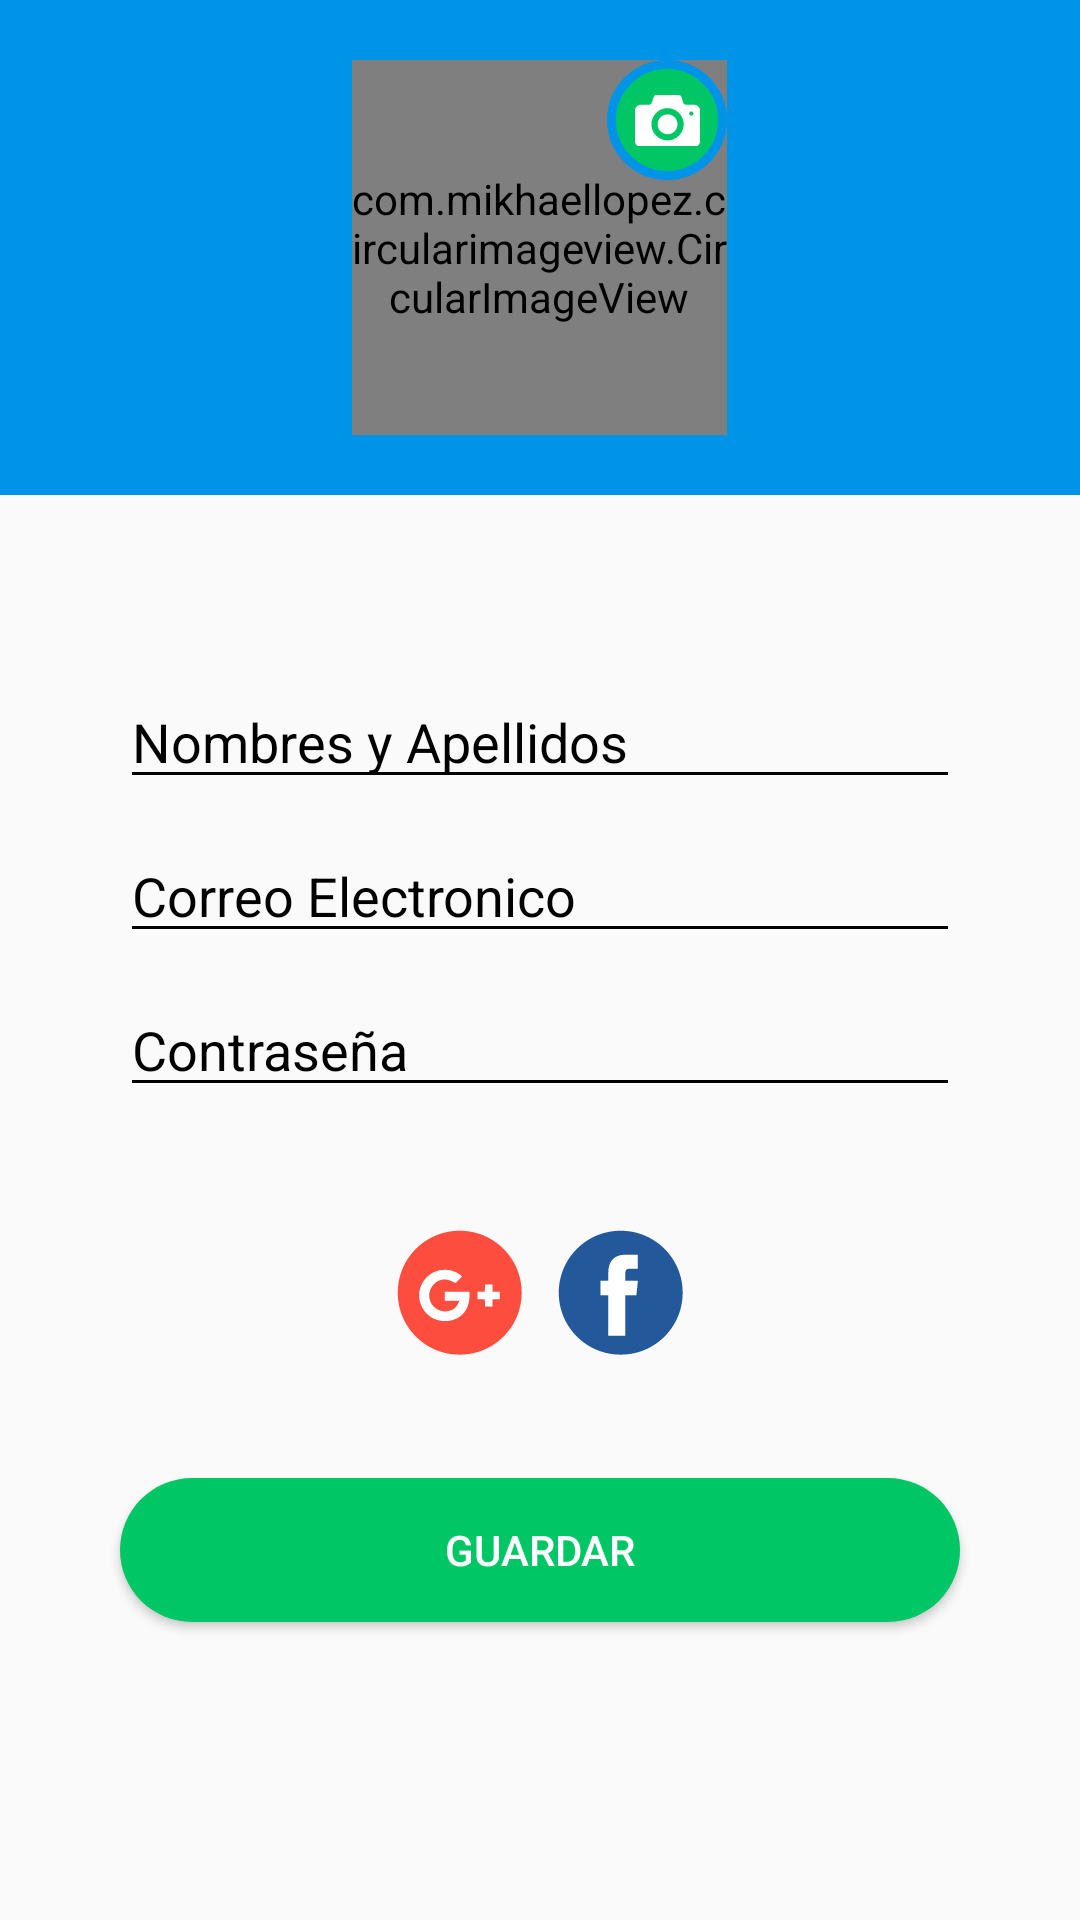

Icons on this 1080x1920 Android screen, each with the point to tap as point (x, y):
camara: point (667, 120)
